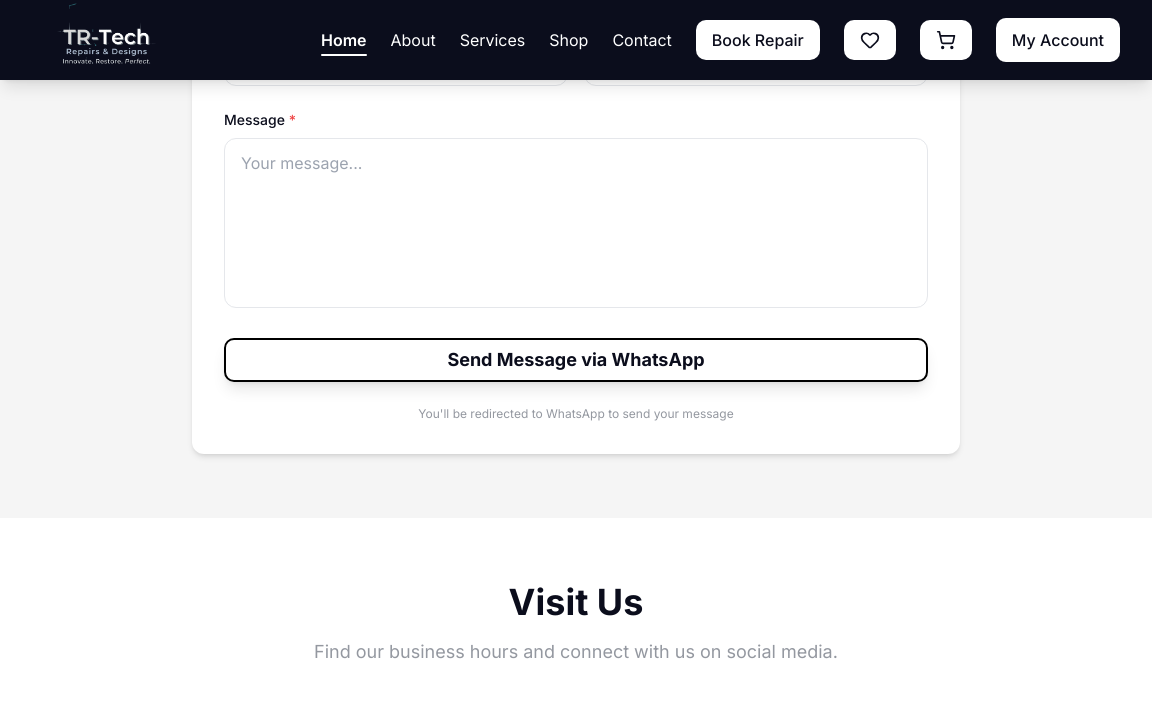
Scenario: ContactPage › shows inline validation error for empty name
(page scrolled)
// Submit without filling any fields — should show validation errors
Click the button with test id "contact-submit".
click(576, 360)  # box 224,338 -> 928,382
(page scrolled)
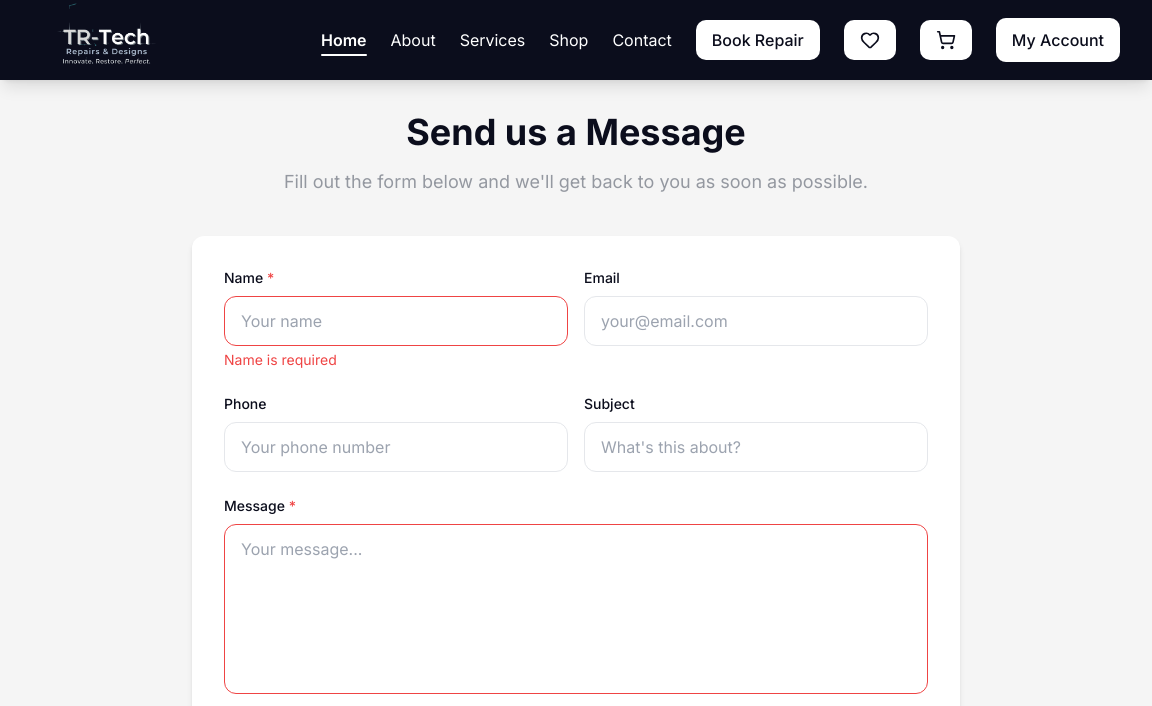
Result: the text "Name is required" is shown at 224,351 -> 337,368
